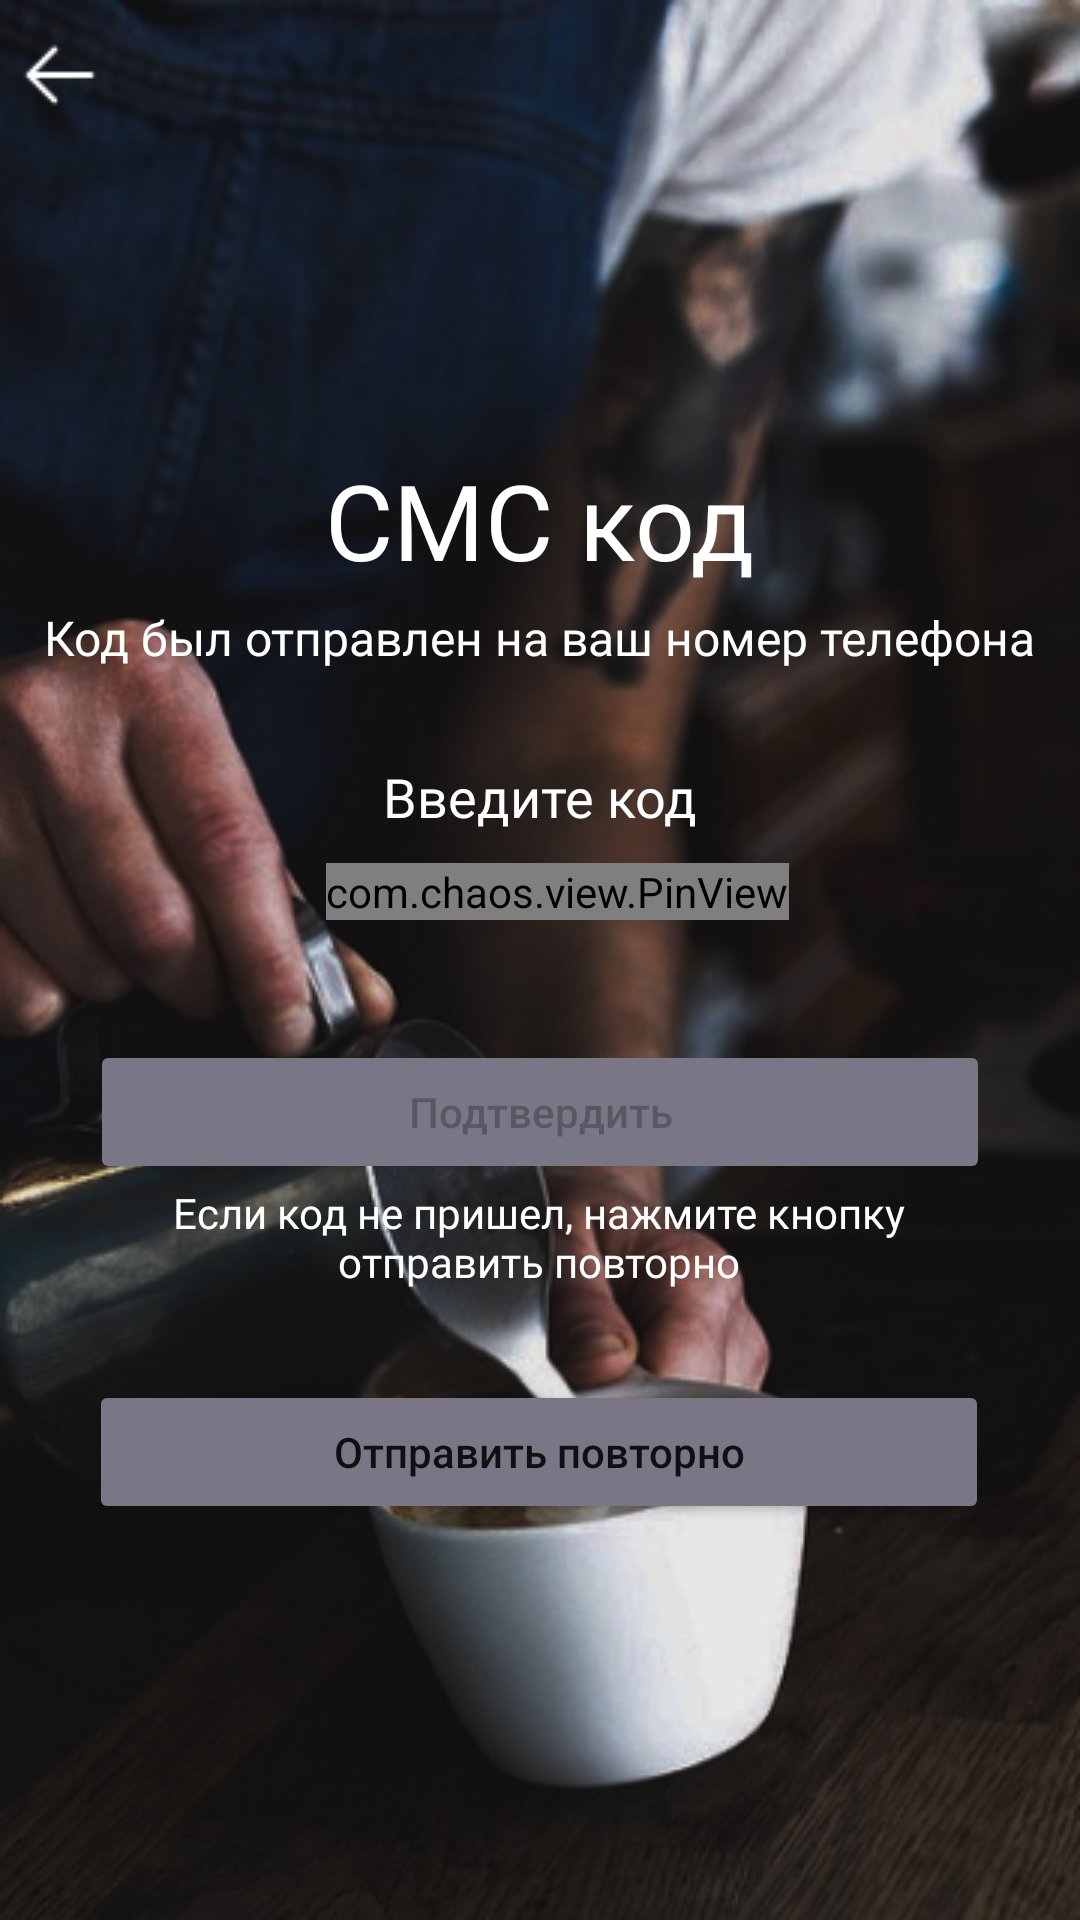

Where to tap for icons on this 1080 × 1920 app screen, as (x,y):
back: (60,74)
